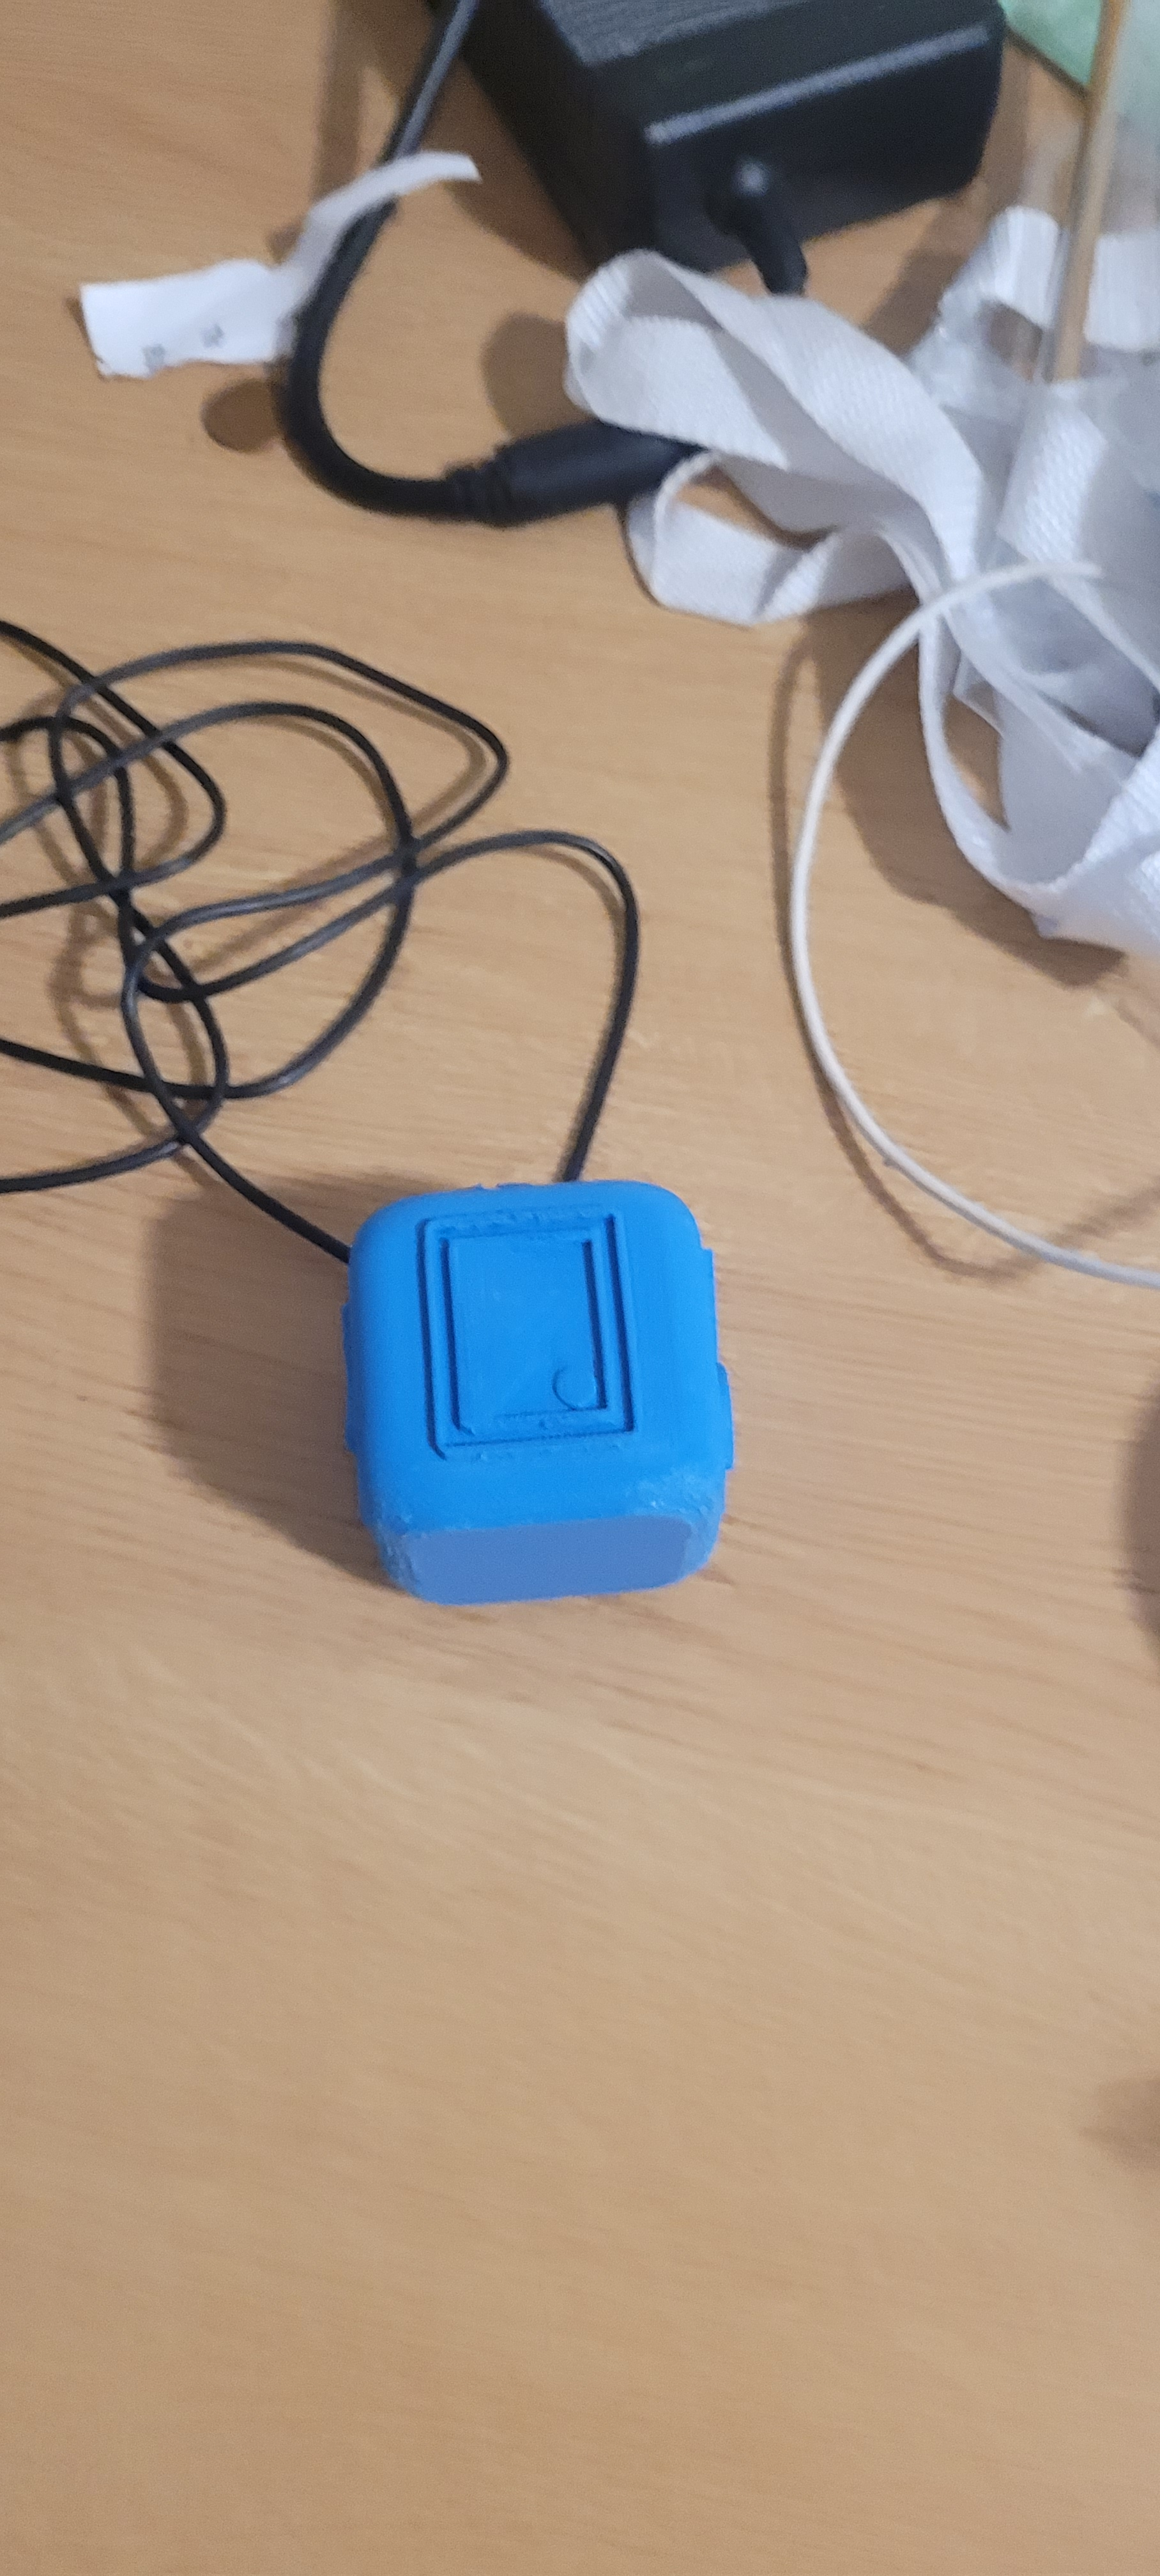Story: (393, 1211, 665, 1477)
